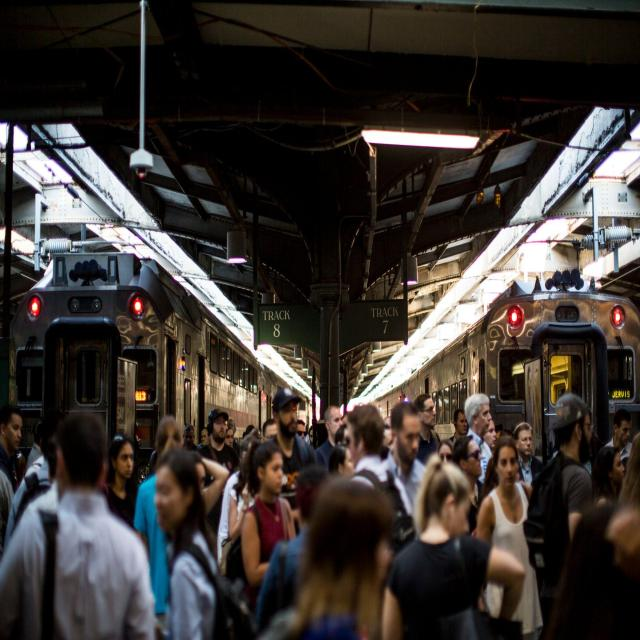body: (0, 402, 161, 640), (376, 450, 530, 639), (252, 480, 396, 640), (150, 444, 258, 640), (556, 396, 640, 640), (474, 434, 544, 640), (540, 393, 596, 640), (234, 435, 299, 621), (134, 414, 184, 625), (0, 404, 61, 564), (269, 386, 319, 537), (373, 401, 427, 515), (387, 401, 428, 516), (182, 404, 240, 479), (296, 418, 354, 480), (216, 480, 253, 575), (450, 434, 484, 537), (186, 448, 232, 519), (106, 433, 139, 528), (464, 392, 494, 486), (412, 392, 442, 467), (240, 418, 276, 480), (314, 403, 344, 475), (512, 421, 544, 488), (436, 398, 468, 464), (480, 412, 502, 501), (377, 413, 396, 458)
